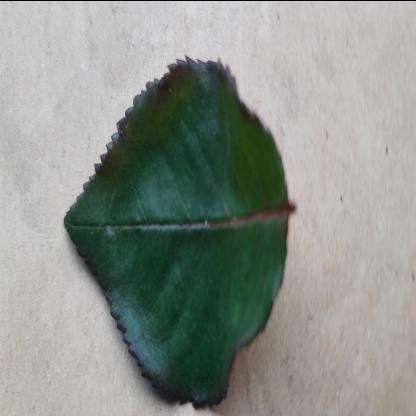normal: (63, 46, 294, 408)
